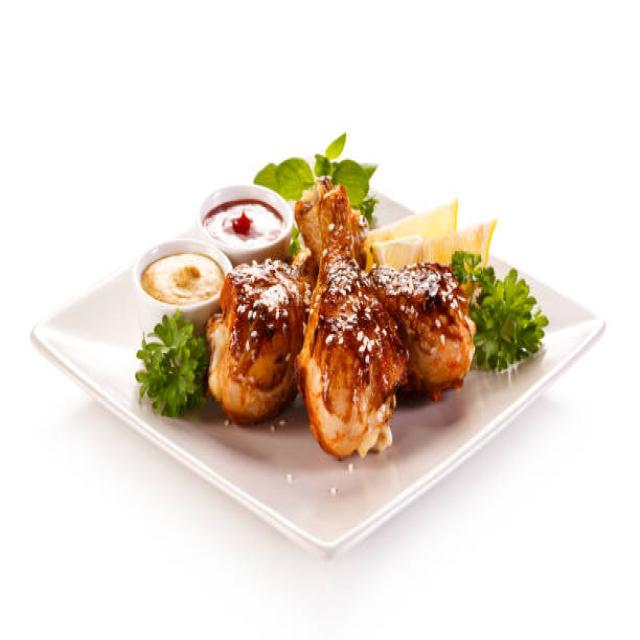Frango: (203, 171, 482, 461)
